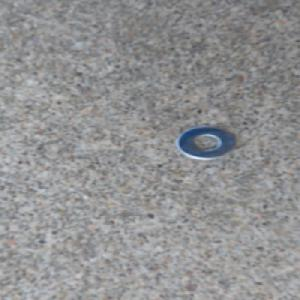Washer: (172, 123, 240, 162)
